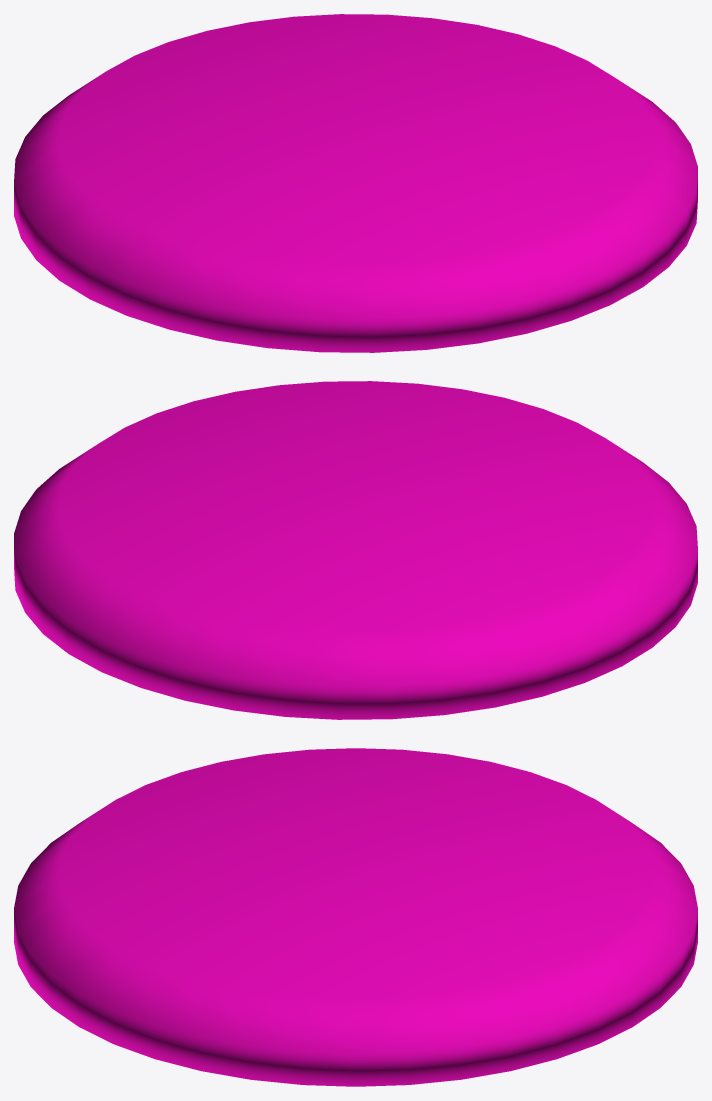
File: Cylindre_Lign_Center.fbx
3 views of the same model, one above another, from view 1: azimuth 30°, elevation 25°; view 2: azimuth 150°, elevation 25°; view 3: azimuth 270°, elevation 25° (orthographic).
Visible parts, largest first — view 1: Cylindre_Lign_Center; view 2: Cylindre_Lign_Center; view 3: Cylindre_Lign_Center.
Boxes of the visible parts, bbox=[...] form: Cylindre_Lign_Center: bbox=[14, 14, 697, 352]; Cylindre_Lign_Center: bbox=[14, 381, 697, 719]; Cylindre_Lign_Center: bbox=[14, 748, 697, 1086].
Size of the model in its own units: 34.6 by 3.82 by 34.6.
